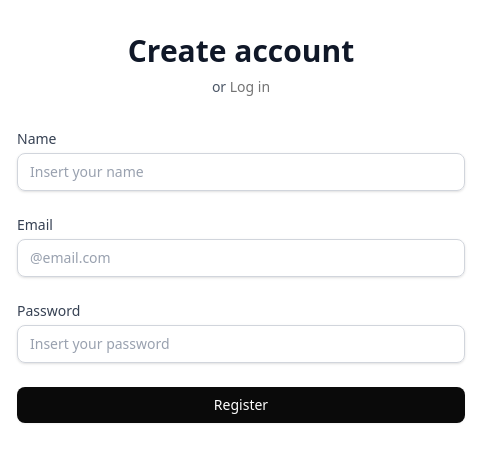
Test: Register › Should show password validation errors
Type "John Doe" into the field labelled "Name". click: (241, 172)
box: top-left (17, 153), bottom-right (465, 191)
Type "Short1" into the password field labelled "Password". click: (241, 344)
box: top-left (17, 325), bottom-right (465, 363)
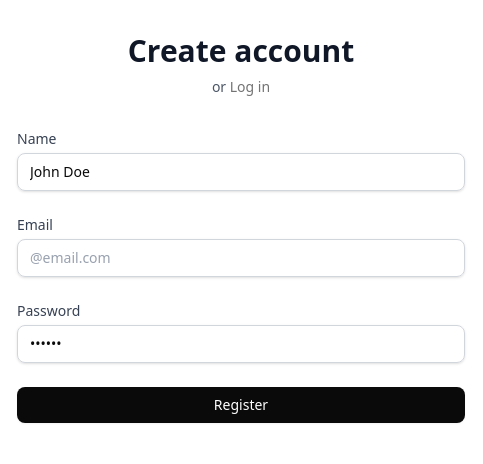
Click the button "Register". click: (241, 405)
box: top-left (17, 387), bottom-right (465, 423)
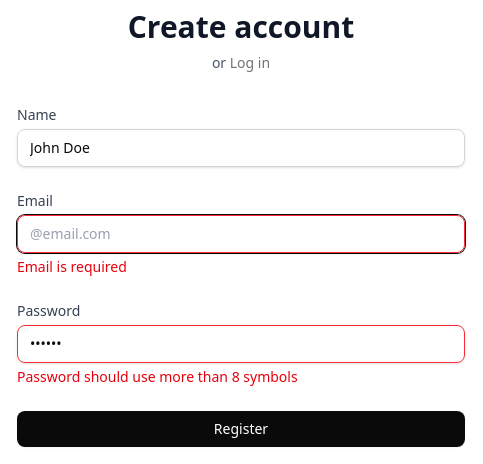
Now the text "Password should use more than 8 symbols" is shown, box top-left (17, 367), bottom-right (298, 386)
Type "password123" into the password field labelled "Password". click: (241, 344)
box: top-left (17, 325), bottom-right (465, 363)
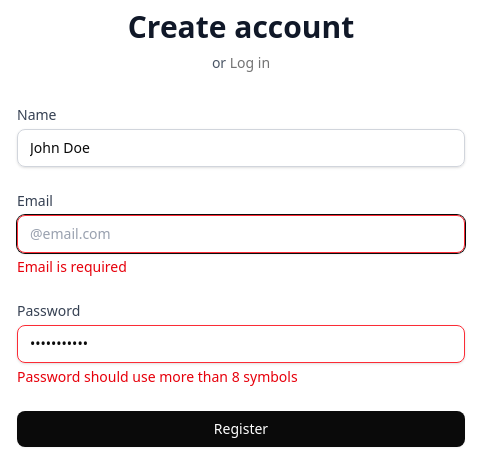
Click the button "Register". click: (241, 429)
box: top-left (17, 411), bottom-right (465, 447)
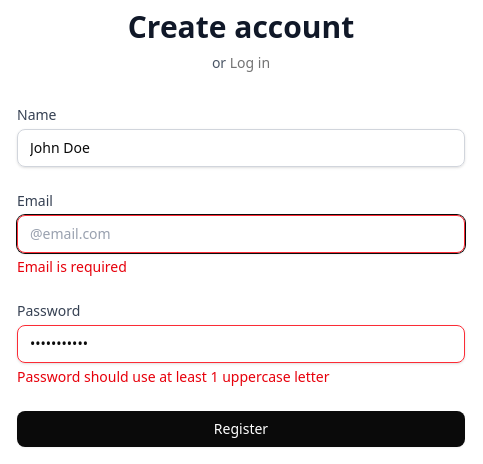
Now the text "Password should use at least 1 uppercase letter" is shown, box top-left (17, 367), bottom-right (330, 386)
Type "Password" into the password field labelled "Password". click: (241, 344)
box: top-left (17, 325), bottom-right (465, 363)
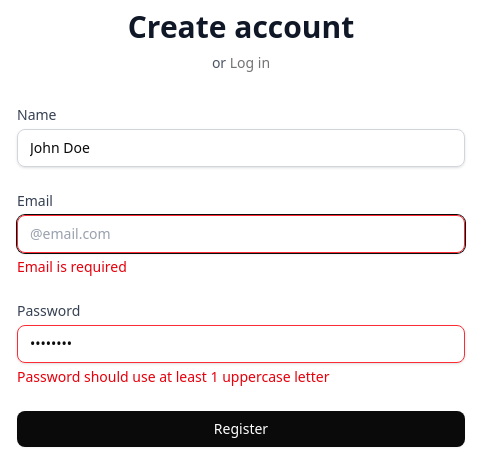
Click the button "Register". click: (241, 429)
box: top-left (17, 411), bottom-right (465, 447)
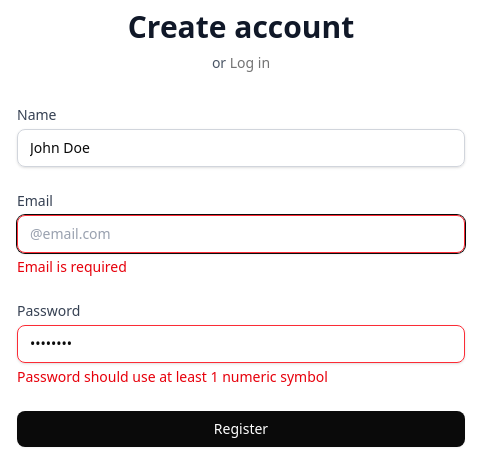
Now the text "Password should use at least 1 numeric symbol" is shown, box top-left (17, 367), bottom-right (328, 386)
